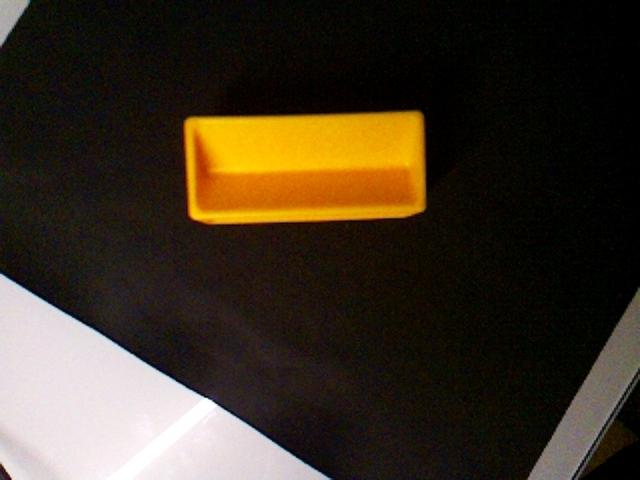yellow: (182, 109, 428, 226)
